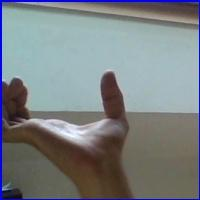B: (1, 57, 141, 179)
